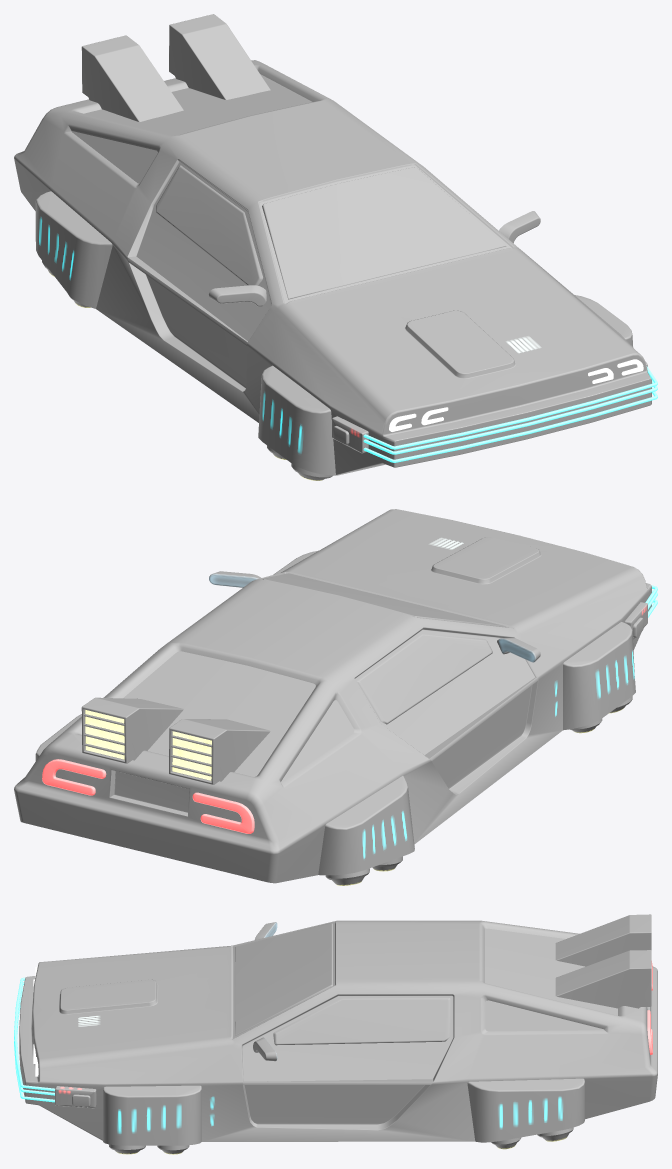
The picture shows the model from 3 angles, top to bottom: view 1: azimuth 30°, elevation 25°; view 2: azimuth 150°, elevation 25°; view 3: azimuth 270°, elevation 25°; orthographic projection. The views are drawn at different scales.
Parts seen in each view (by area): view 1: dmc; view 2: dmc; view 3: dmc.
Boxes of the visible parts, <box> form: dmc: <box>14,14,657,480</box>; dmc: <box>14,509,657,885</box>; dmc: <box>14,914,657,1154</box>.
Size of the model in its own units: 2.74 by 1.4 by 5.38.
